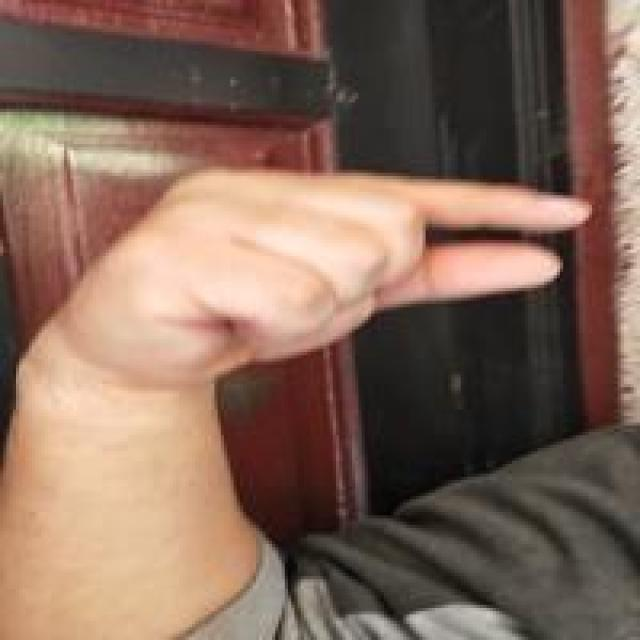G: (54, 162, 596, 398)
